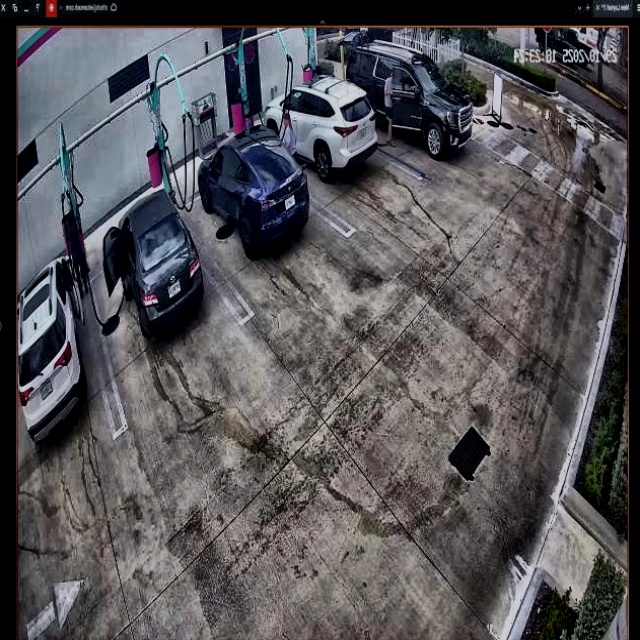Car: (198, 126, 307, 255), (104, 190, 202, 333), (264, 76, 377, 174)
